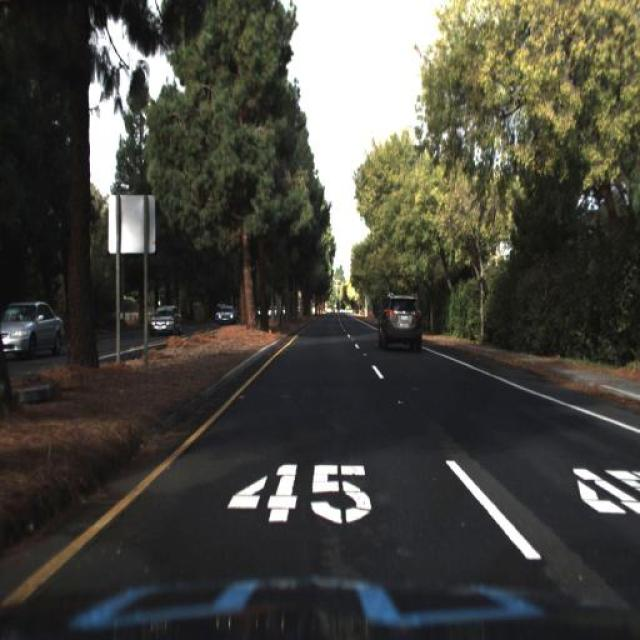car: (0, 298, 65, 359), (374, 292, 421, 352), (144, 303, 183, 341), (214, 300, 238, 329), (216, 305, 234, 330)
